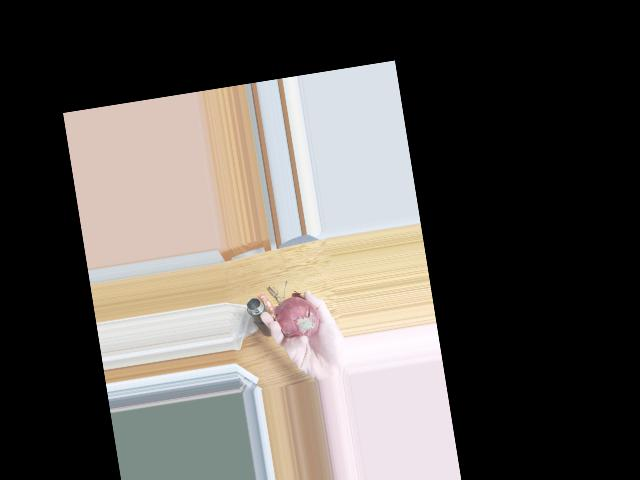onion: (273, 297, 323, 343)
